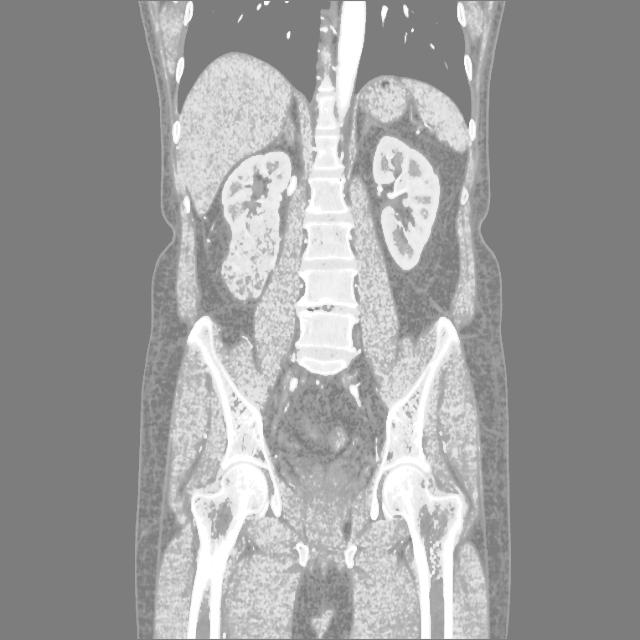TUMOR: (201, 100, 540, 362)
